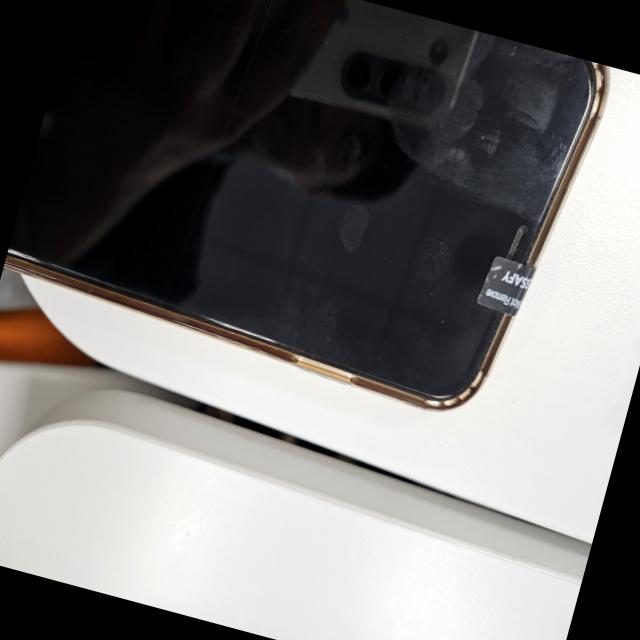phone: (0, 0, 617, 443)
sticker: (474, 250, 536, 324)
